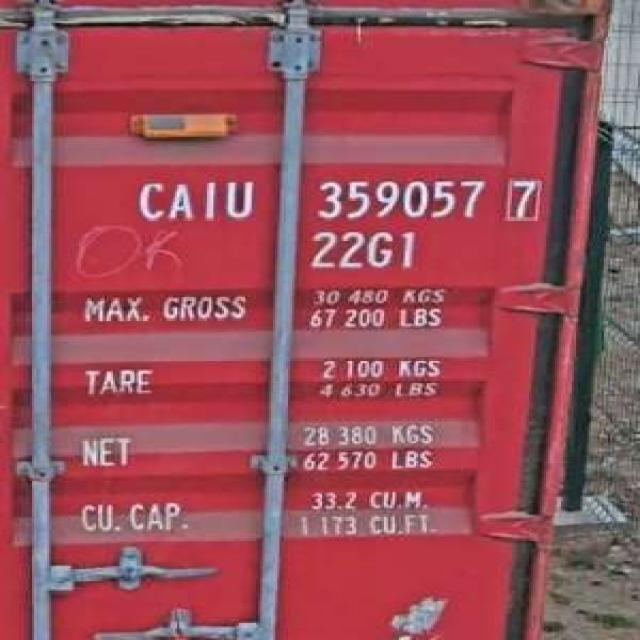dv: (499, 174, 546, 223)
owner: (128, 174, 258, 228)
serial: (310, 172, 488, 225)
size: (305, 226, 420, 274)
